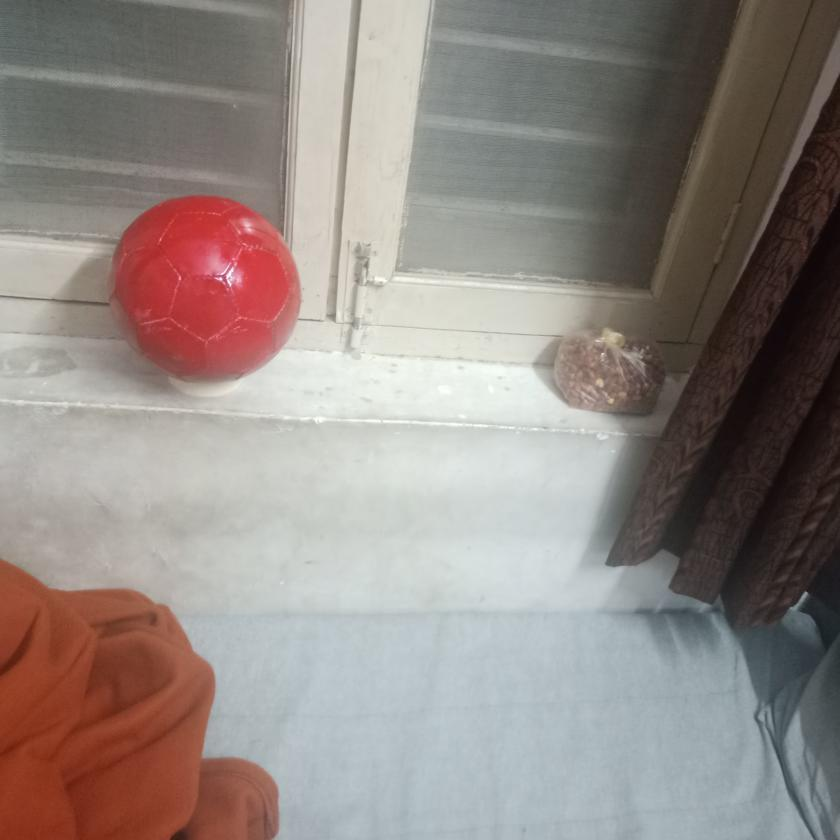Red_Ball: (97, 190, 305, 385)
